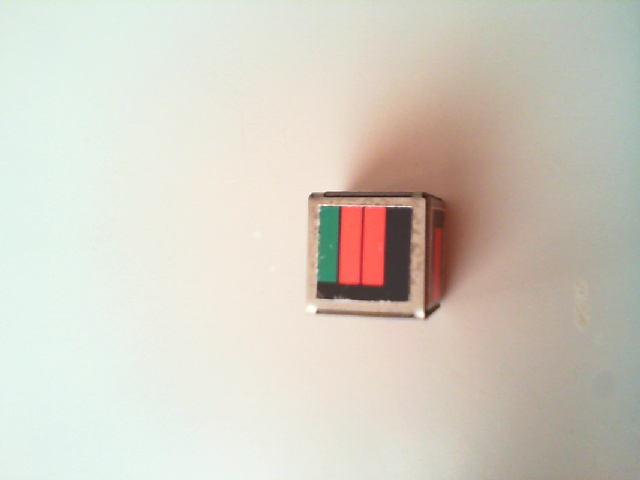square: (318, 207, 412, 301)
